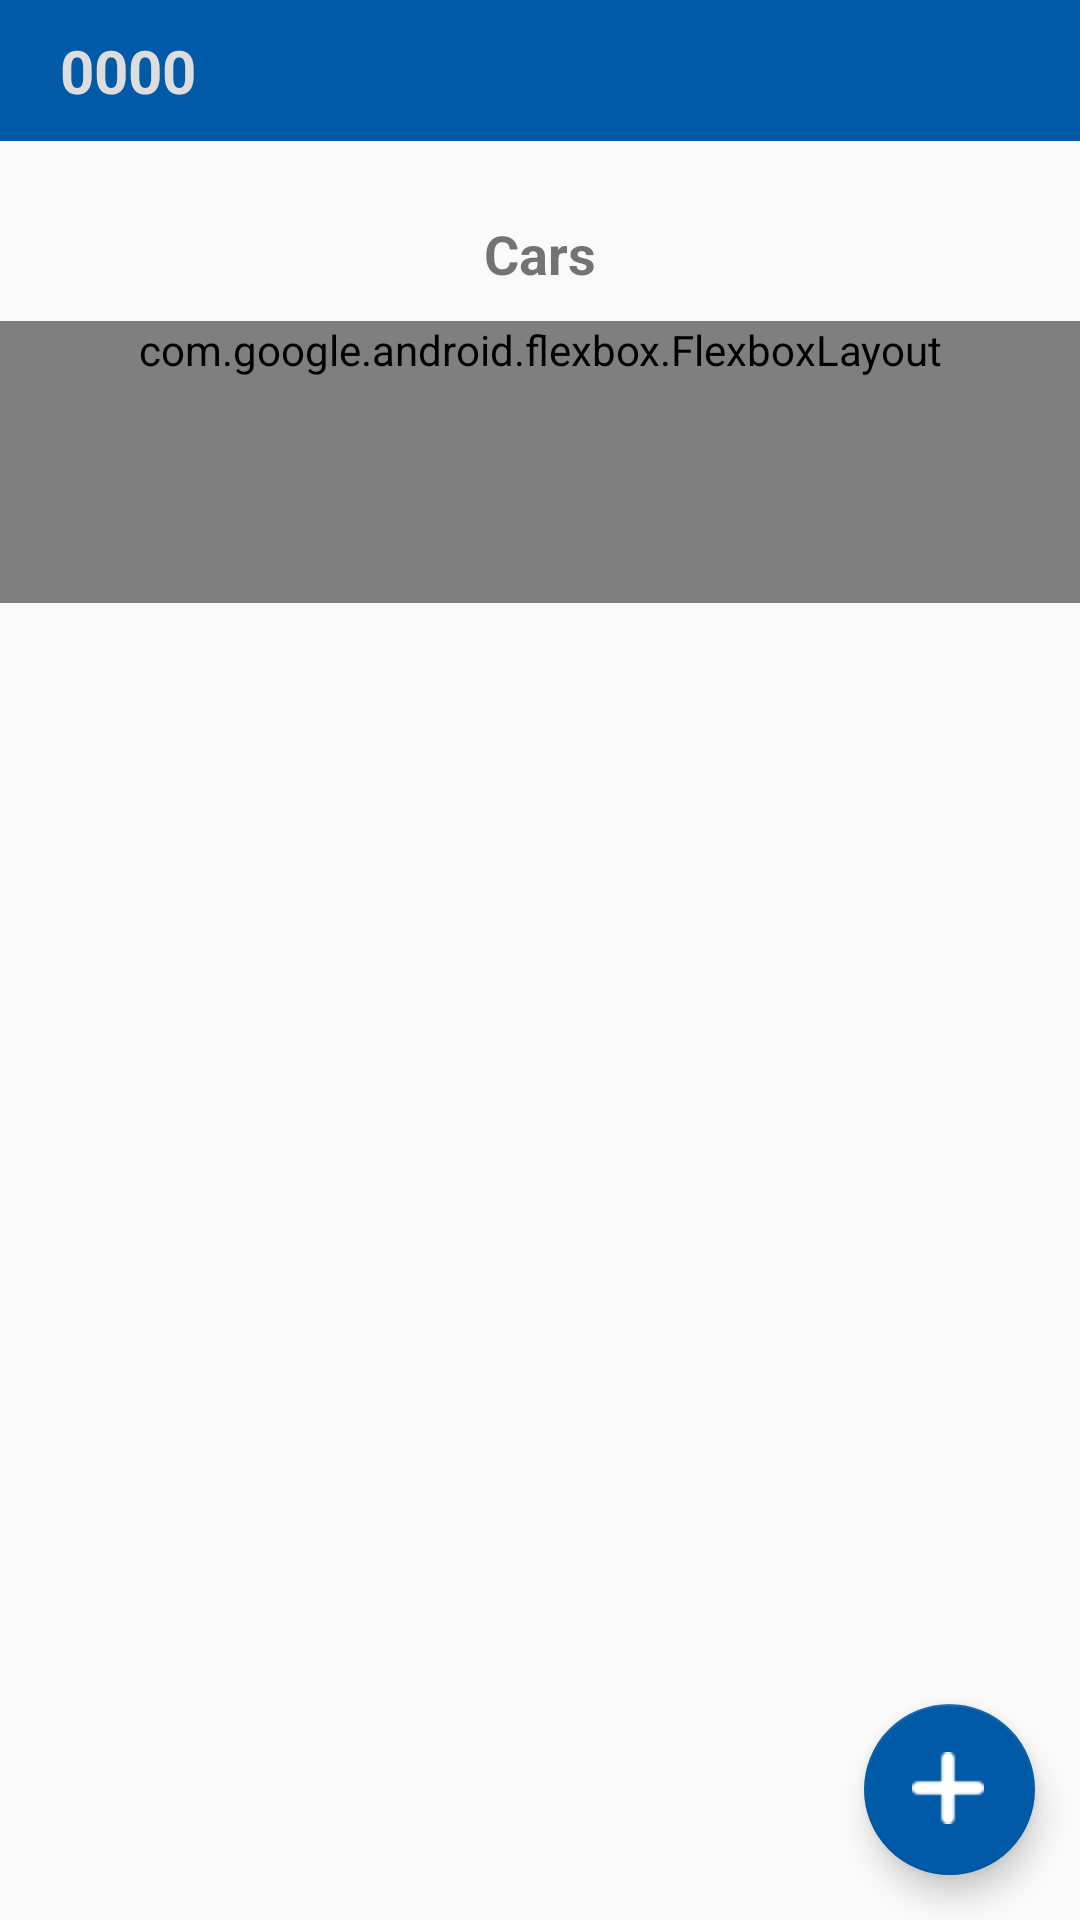

Locate icon controls on the screen. Image size 1080x1920, boxes as rect(x1, y1, x2, y2).
add: rect(864, 1704, 1035, 1875)
